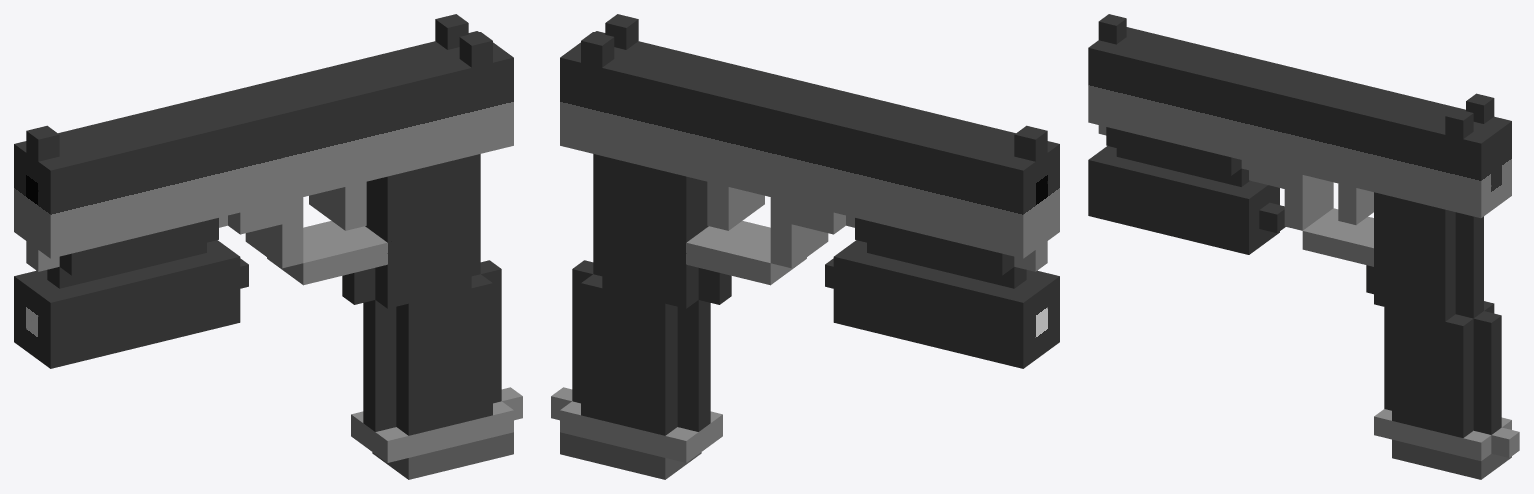
File: Pistol.glb
3 renders of one model, left to right at view 1: azimuth 30°, elevation 25°; view 2: azimuth 150°, elevation 25°; view 3: azimuth 330°, elevation 25°, orthographic. The views are drawn at different scales.
Parts seen in each view (by area): view 1: model; view 2: model; view 3: model.
Boxes of the visible parts, x1,y1,x2,y2 form: model: [14, 14, 522, 479]; model: [551, 14, 1059, 479]; model: [1088, 14, 1519, 479].
Size of the model in its own units: 2.3 by 1.9 by 0.3.
1 material, 1 textured.
